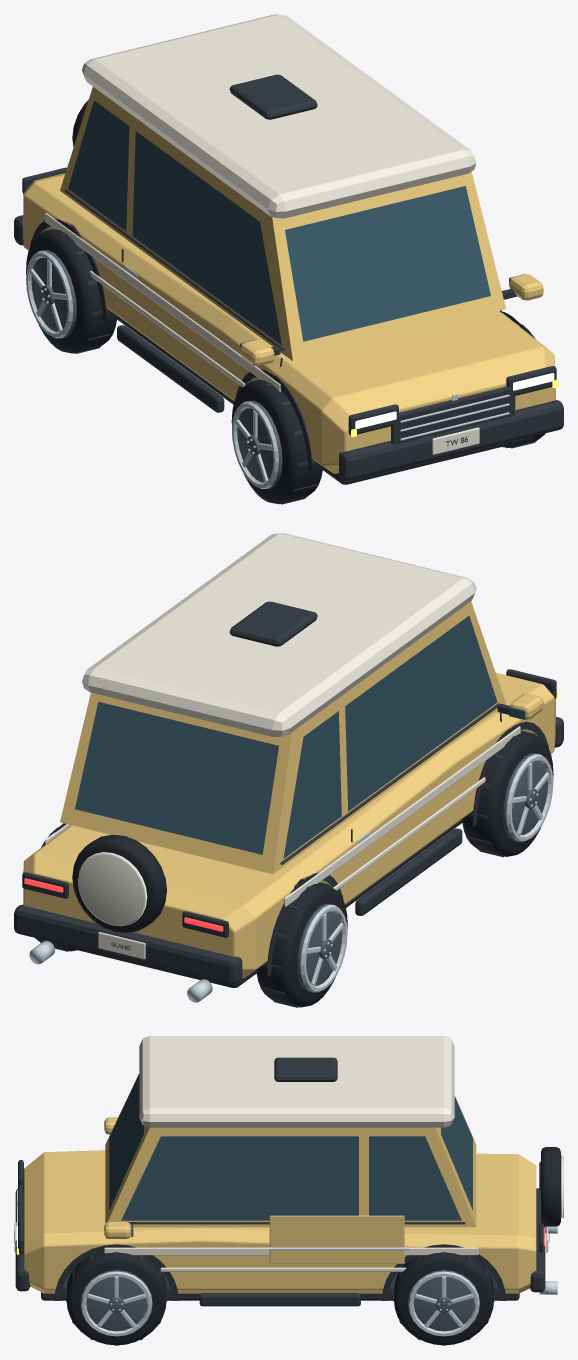
Rendered from van.glb.
3 views of the same model, one above another, from view 1: azimuth 30°, elevation 25°; view 2: azimuth 150°, elevation 25°; view 3: azimuth 270°, elevation 25° (orthographic). The views are drawn at different scales.
Parts seen in each view (by area): view 1: WarmIvoryParts.003, GlassParts.003, SculptedBody.003, TrimParts.015, BodyPaint_vanParts, TireParts.013, TireParts.015, ForgedGraphiteParts.012, ForgedGraphiteParts.014, AlloyParts.016, AlloyParts.018, AlloyParts.015 (+1 smaller); view 2: WarmIvoryParts.003, GlassParts.003, SculptedBody.003, TrimParts.015, BodyPaint_vanParts, TireParts.015, TireParts.013, TireParts.012, ForgedGraphiteParts.012, ForgedGraphiteParts.014, AlloyParts.016, AlloyParts.018 (+1 smaller); view 3: WarmIvoryParts.003, GlassParts.003, SculptedBody.003, BodyPaint_vanParts, TrimParts.015, TireParts.014, TireParts.016, ForgedGraphiteParts.013, ForgedGraphiteParts.015, AlloyParts.019, AlloyParts.017, TireParts.012 (+1 smaller).
Part boxes in pixels (<box>): WarmIvoryParts.003: <box>45,14,518,454</box>; GlassParts.003: <box>68,100,523,351</box>; SculptedBody.003: <box>23,173,555,473</box>; TrimParts.015: <box>14,74,563,484</box>; BodyPaint_vanParts: <box>60,87,543,366</box>; TireParts.013: <box>231,376,323,504</box>; TireParts.015: <box>26,225,117,353</box>; ForgedGraphiteParts.012: <box>237,400,282,488</box>; ForgedGraphiteParts.014: <box>31,250,76,338</box>; AlloyParts.016: <box>232,401,278,488</box>; AlloyParts.018: <box>26,251,73,338</box>; AlloyParts.015: <box>124,265,509,440</box>; WarmIvoryParts.003: <box>45,533,520,959</box>; GlassParts.003: <box>75,615,525,858</box>; SculptedBody.003: <box>23,673,555,977</box>; TrimParts.015: <box>14,601,563,987</box>; BodyPaint_vanParts: <box>60,601,543,874</box>; TireParts.015: <box>256,879,347,1007</box>; TireParts.013: <box>462,728,553,856</box>; TireParts.012: <box>72,834,166,932</box>; ForgedGraphiteParts.012: <box>502,753,547,841</box>; ForgedGraphiteParts.014: <box>297,904,342,991</box>; AlloyParts.016: <box>506,754,553,841</box>; AlloyParts.018: <box>300,905,347,992</box>; WarmIvoryParts.003: <box>14,1036,563,1271</box>; GlassParts.003: <box>109,1074,472,1236</box>; SculptedBody.003: <box>24,1150,536,1293</box>; BodyPaint_vanParts: <box>104,1073,476,1263</box>; TrimParts.015: <box>14,1057,549,1306</box>; TireParts.014: <box>66,1251,166,1345</box>; TireParts.016: <box>394,1252,493,1345</box>; ForgedGraphiteParts.013: <box>80,1270,152,1331</box>; ForgedGraphiteParts.015: <box>408,1270,479,1331</box>; AlloyParts.019: <box>408,1271,479,1336</box>; AlloyParts.017: <box>80,1271,152,1336</box>; TireParts.012: <box>541,1147,560,1226</box>.
Bounding box in the file's own units: 2.4 × 2.29 × 4.94.
